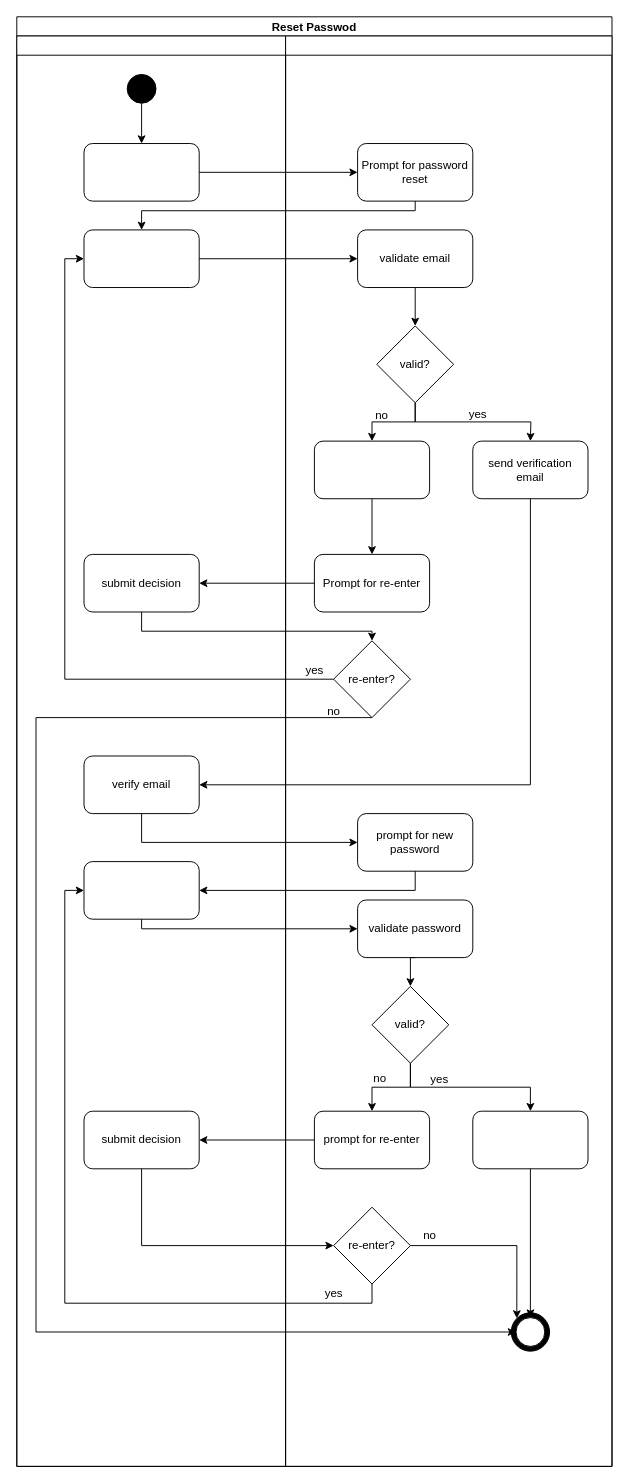
Image size: 629x1483. Some labels were removed from this diagram. The shapes that lost their labels are listed below. From the top down, each one's box as (x1, y1, x2, y2) in pixels, then its label:
(83, 143, 199, 201): click for forgot password
(83, 229, 199, 288): Enter email
(313, 440, 430, 499): display error message
(16, 35, 286, 1466): User
(285, 35, 612, 1466): System
(83, 861, 199, 919): enter password
(472, 1110, 588, 1169): display success
